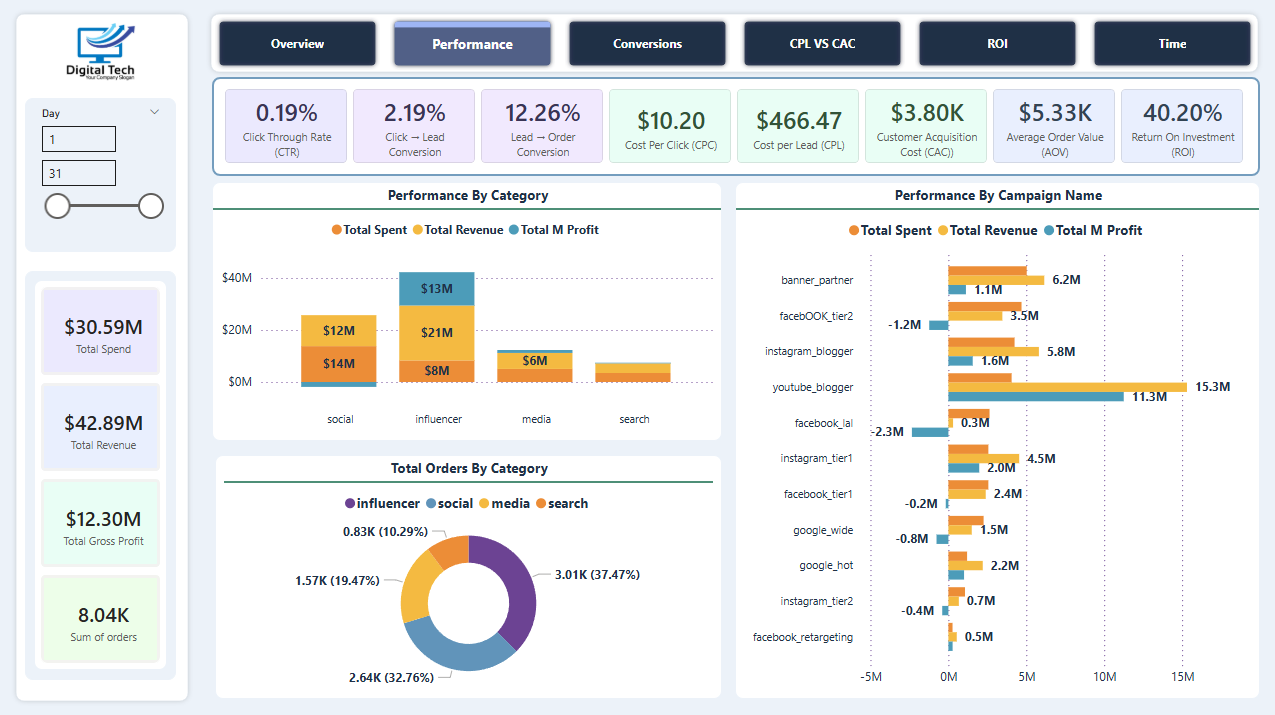

Layout of this report page (visuals, bound fields, positions):
{"tool":"powerbi","page":{"name":"Overview","canvas":[1280,720],"ordinal":1},"visuals":[{"type":"shape","box":[0,0,1920,1080],"z":0},{"type":"shape","box":[208.2,10.9,1057.3,68.2],"z":0,"group":"g2"},{"type":"shape","box":[13,11,182,697],"z":1000},{"type":"group","id":"g1","title":"Group 1","box":[201.7,80.7,1071,210],"z":1000,"group":"g3"},{"type":"image","box":[19.5,23.3,166.3,61.3],"z":2000},{"type":"group","id":"g2","title":"Group 1","box":[208.2,10.9,1057.3,68.2],"z":3000,"group":"g4"},{"type":"funnel","title":"عدد الوحدات المباعه من كل صنف","fields":{"Y":["Sum(Marketing.impressions)","Sum(Marketing.clicks)","Sum(Marketing.leads)","Sum(Marketing.orders)"]},"box":[214,504.8,390,197.4],"z":3000},{"type":"group","id":"g3","title":"Group 2","box":[201.7,80.7,1071,210],"z":4000},{"type":"shape","box":[201.7,80.7,1071,210],"z":4500,"group":"g1"},{"type":"group","id":"g4","title":"Group 3","box":[208.2,10.9,1057.3,68.2],"z":5000},{"type":"group","id":"g5","title":"Group 1","box":[216.5,98.2,1041.5,175],"z":5000,"group":"g3"},{"type":"slicer","fields":{"Values":["Marketing.c_date.Variation.Date Hierarchy.Day"]},"box":[27.2,100.2,150.8,153.7],"z":6000},{"type":"slicer","fields":{"Values":["Marketing.category"]},"box":[27.2,271.9,150.8,156.6],"z":7000},{"type":"pageNavigator","title":"الصفحات","box":[216.9,18.5,1041.7,53.5],"z":8000,"group":"g4"},{"type":"slicer","fields":{"Values":["Marketing.campaign_name"]},"box":[27.2,446.4,150.8,243.2],"z":8000},{"type":"funnel","title":"عدد الوحدات المباعه من كل صنف","fields":{"Y":["Sum(Marketing.mark_spent)","Sum(Marketing.revenue)","Marketing.GProfit"]},"box":[214,295.7,390,197.4],"z":9000},{"type":"cardVisual","fields":{"Data":["Marketing.CTR","Marketing.Conv_1","Marketing.Conv_2","Marketing.CPC","Marketing.CPL","Marketing.CAC","Marketing.AOV","Marketing.ROMI"]},"box":[216.5,98.2,1041.5,175],"z":9001,"group":"g5"},{"type":"barChart","title":"Performance With Date","fields":{"Category":["Marketing.c_date_day_name"],"Y":["Sum(Marketing.mark_spent)","Sum(Marketing.revenue)","Marketing.GProfit"]},"box":[613.7,295.7,644.9,406.6],"z":10001}]}

Visuals, with their boxes in screenshot pixels (x1, y1, x2, y2), scaled from the page's 1280x720 canvas onto the 1275x715 screenshot:
shape: (x1=0, y1=0, x2=1274, y2=714)
shape: (x1=207, y1=11, x2=1261, y2=79)
shape: (x1=13, y1=11, x2=194, y2=703)
"Group 1" group: (x1=201, y1=80, x2=1268, y2=289)
image: (x1=19, y1=23, x2=185, y2=84)
"Group 1" group: (x1=207, y1=11, x2=1261, y2=79)
"عدد الوحدات المباعه من كل صنف" funnel: (x1=213, y1=501, x2=602, y2=697)
"Group 2" group: (x1=201, y1=80, x2=1268, y2=289)
shape: (x1=201, y1=80, x2=1268, y2=289)
"Group 3" group: (x1=207, y1=11, x2=1261, y2=79)
"Group 1" group: (x1=216, y1=98, x2=1253, y2=271)
slicer - Marketing.c_date.Variation.Date Hierarchy.Day: (x1=27, y1=100, x2=177, y2=252)
slicer - Marketing.category: (x1=27, y1=270, x2=177, y2=426)
"الصفحات" pageNavigator: (x1=216, y1=18, x2=1254, y2=72)
slicer - Marketing.campaign_name: (x1=27, y1=443, x2=177, y2=685)
"عدد الوحدات المباعه من كل صنف" funnel: (x1=213, y1=294, x2=602, y2=490)
cardVisual - Marketing.CTR x Marketing.Conv_1: (x1=216, y1=98, x2=1253, y2=271)
"Performance With Date" barChart: (x1=611, y1=294, x2=1254, y2=697)
